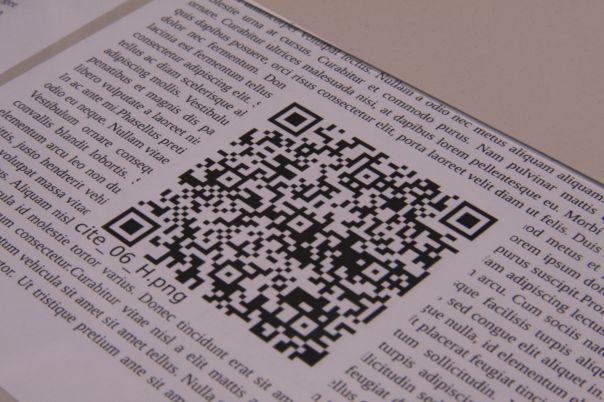Finder pattern: (437, 197, 499, 243), (100, 206, 160, 248), (268, 99, 324, 137)
